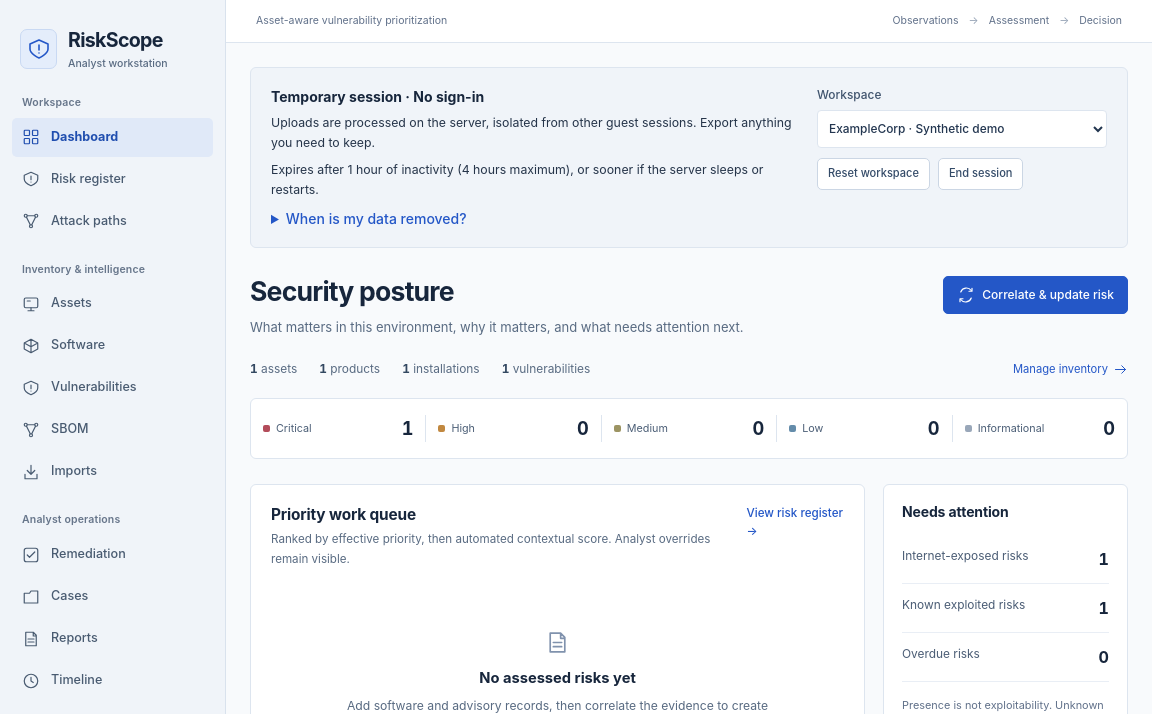
Scenario: anonymous temporary workspaces › opens the complete demo without sign-in and explains temporary server storage
Expected: the text "Temporary session · No sign-in" is shown, [271,88,484,105]
Expected: the dropdown labelled "Workspace" shows "ExampleCorp · Synthetic demo", [817,110,1107,148]
Click the heading "When is my data removed?": (376,219) [286,210,467,227]
(page scrolled)
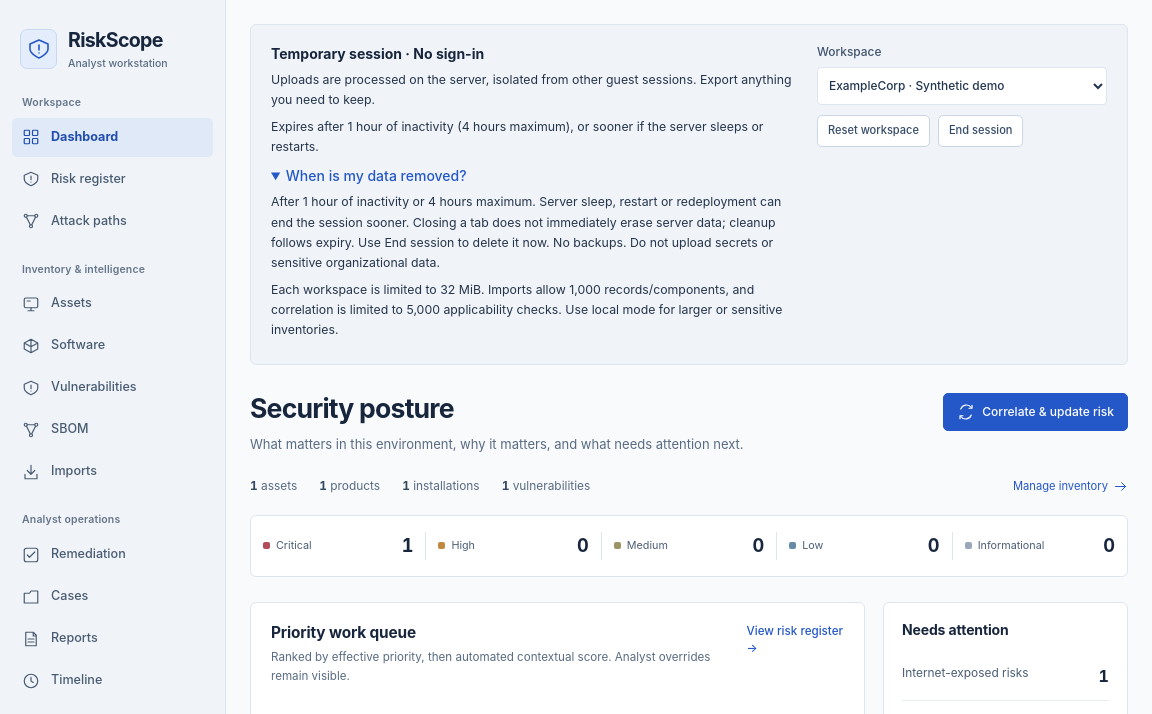
Result: the text "No backups" is shown at [271,194,781,270]
